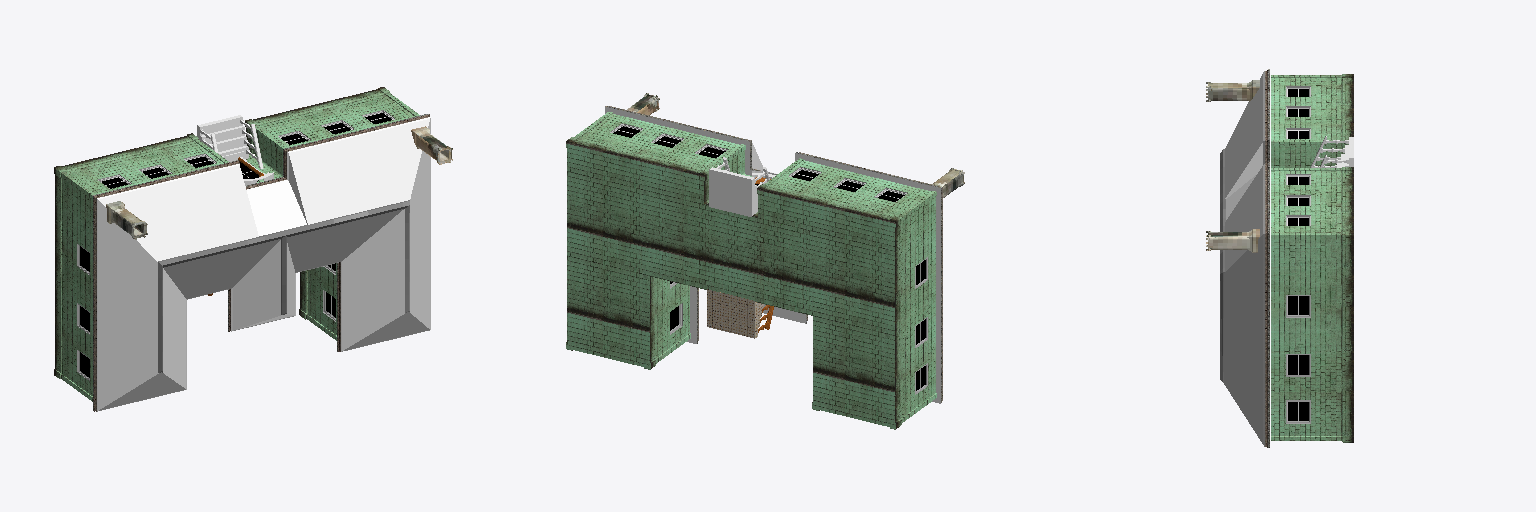
3 renders of one model, left to right at view 1: azimuth 30°, elevation 25°; view 2: azimuth 150°, elevation 25°; view 3: azimuth 270°, elevation 25°, orthographic.
Parts seen in each view (by area): view 1: roof, walls, object01, roof_top, chimneys, border02, border, border1; view 2: walls, object01, steps, chimneys, border1; view 3: walls, roof, object01, chimneys, roof_top, border1, border.
Part boxes in pixels (bbox=[...]): roof: bbox=[97, 117, 430, 411]; walls: bbox=[54, 87, 419, 401]; object01: bbox=[77, 110, 394, 380]; roof_top: bbox=[158, 200, 409, 372]; chimneys: bbox=[106, 126, 452, 239]; border02: bbox=[94, 114, 429, 411]; border: bbox=[96, 116, 429, 411]; border1: bbox=[93, 114, 428, 410]; walls: bbox=[566, 112, 936, 429]; object01: bbox=[605, 107, 940, 403]; steps: bbox=[707, 289, 763, 338]; chimneys: bbox=[627, 93, 964, 197]; border1: bbox=[605, 106, 941, 402]; walls: bbox=[1271, 74, 1353, 442]; roof: bbox=[1224, 71, 1264, 446]; object01: bbox=[1286, 86, 1353, 423]; chimneys: bbox=[1206, 80, 1259, 252]; roof_top: bbox=[1220, 149, 1225, 382]; border1: bbox=[1268, 69, 1269, 447]; border: bbox=[1265, 71, 1266, 446].
Bounding box in the file's own units: 0.127 × 0.0797 × 0.0486.
34 materials, 8 textured.